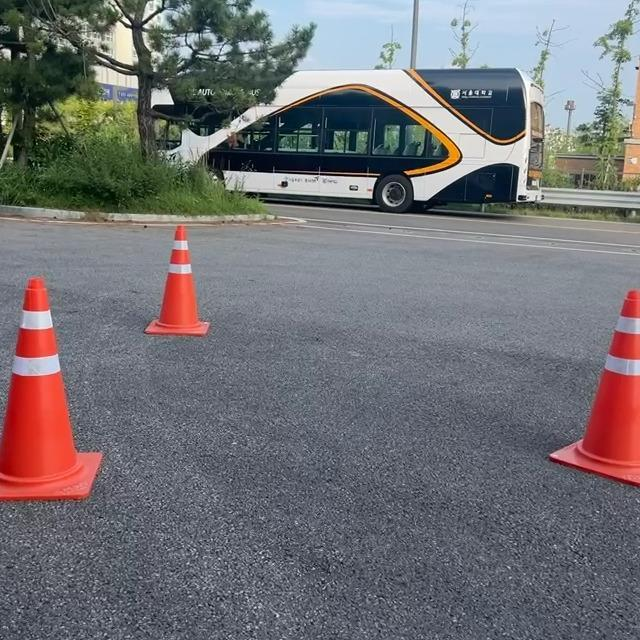fallen_object: (0, 269, 128, 525), (503, 287, 640, 526), (130, 210, 250, 415)
